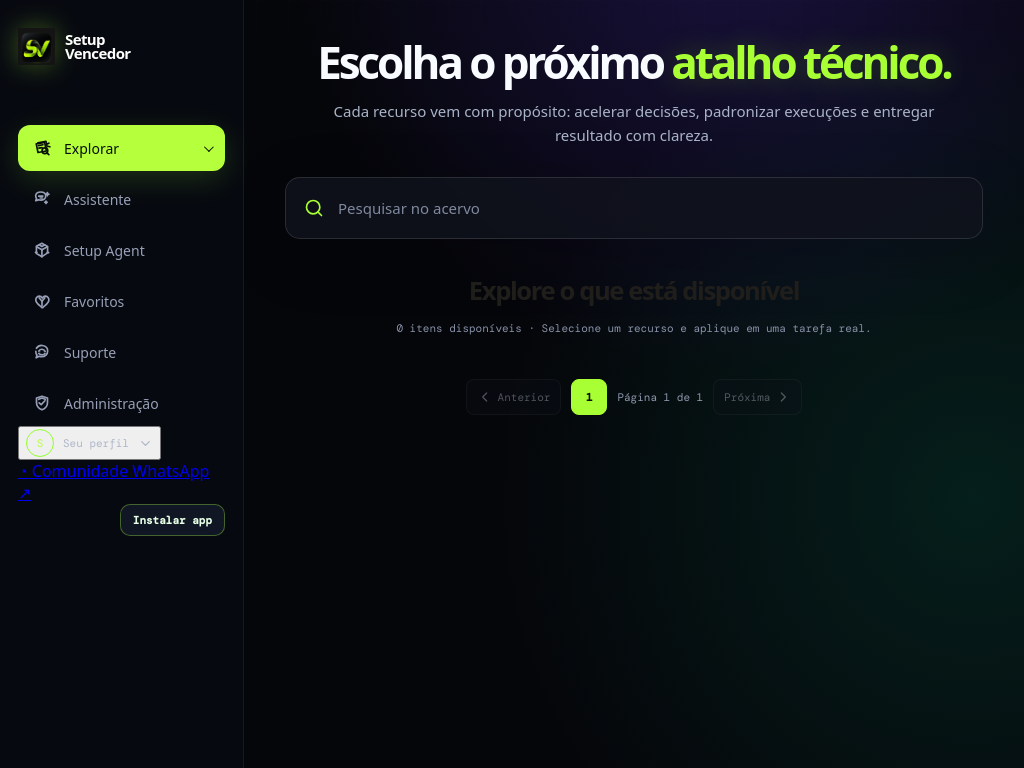
shows the support desk to managers from the support area
What coordinates should you click on to do the following:
click the button "Suporte"
I would click on:
 (122, 352)
Its box is 18,329 -> 225,375.
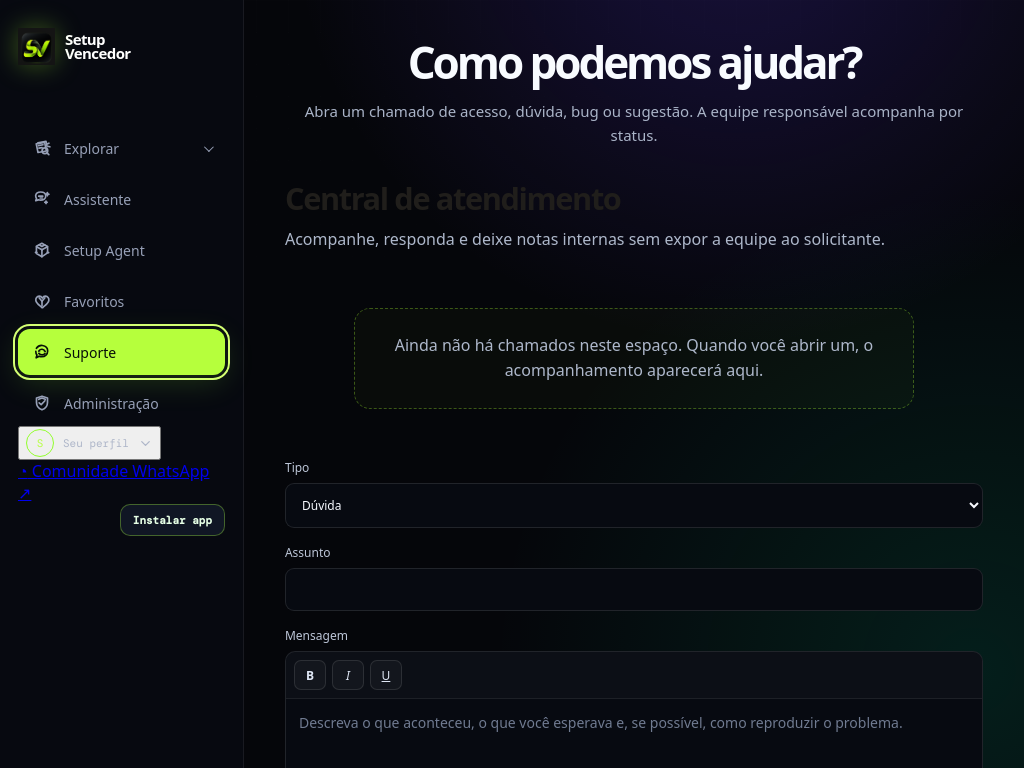
expect the heading "Central de atendimento" is shown: met, box 285,177 -> 620,219
